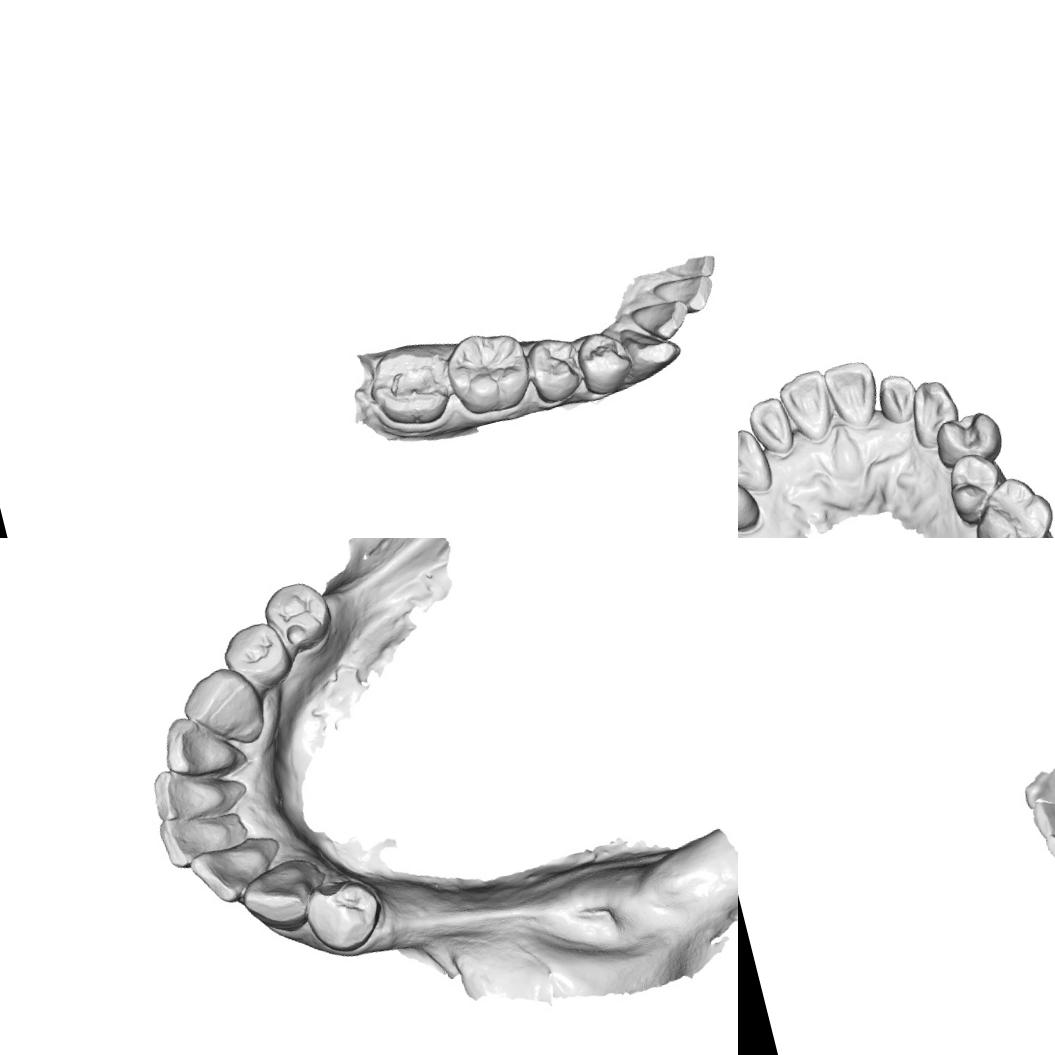canine: (172, 659, 268, 757), (235, 852, 322, 940), (606, 309, 688, 387), (900, 373, 966, 453), (738, 422, 775, 500)
incisor: (142, 751, 252, 832), (184, 832, 290, 909), (152, 796, 257, 872), (154, 704, 242, 785), (774, 365, 842, 448), (820, 355, 887, 434), (742, 392, 798, 463), (628, 293, 696, 349), (650, 268, 718, 321), (871, 368, 924, 429), (1028, 787, 1055, 840)
molar: (358, 335, 460, 437), (438, 322, 538, 422), (961, 466, 1055, 538)
premolar: (300, 872, 388, 960), (258, 574, 338, 660), (215, 616, 295, 696), (940, 446, 1012, 528), (928, 405, 1008, 473), (570, 324, 639, 401), (522, 330, 588, 408), (738, 466, 765, 538)
